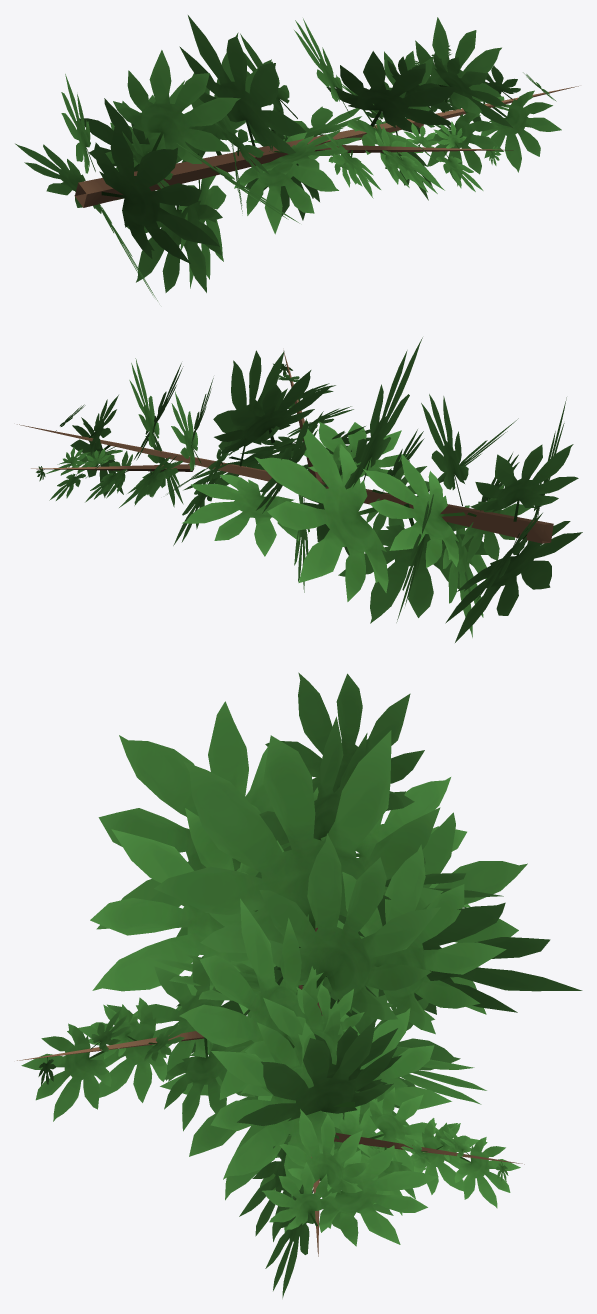
File: Branch_002.fbx
3 renders of one model, top to bottom at view 1: azimuth 30°, elevation 25°; view 2: azimuth 150°, elevation 25°; view 3: azimuth 270°, elevation 25°, orthographic. The views are drawn at different scales.
Parts seen in each view (by area): view 1: Branch_002; view 2: Branch_002; view 3: Branch_002.
Part boxes in pixels (bbox=[...]): Branch_002: bbox=[15, 15, 578, 300]; Branch_002: bbox=[17, 337, 582, 642]; Branch_002: bbox=[17, 672, 582, 1298].
Size of the model in its own units: 6.7 by 2.99 by 3.86.
